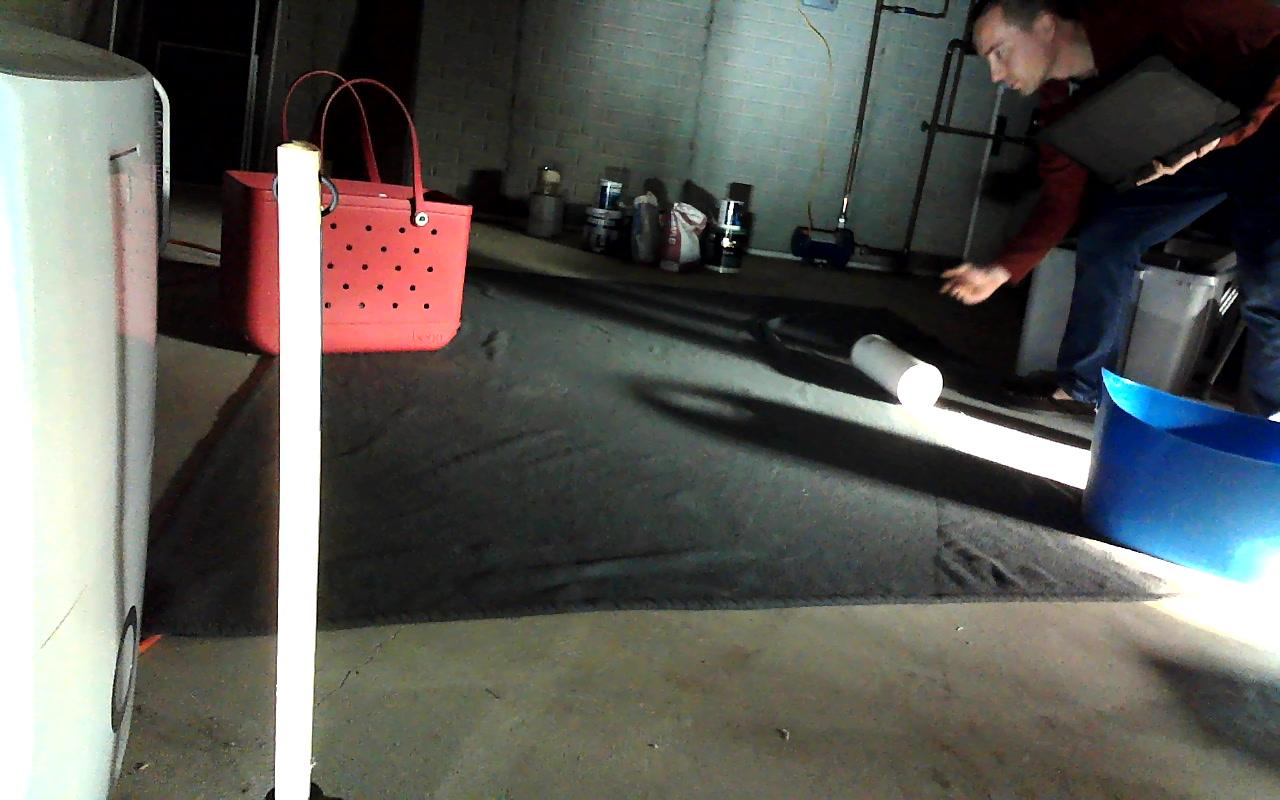coral: (851, 334, 941, 411)
